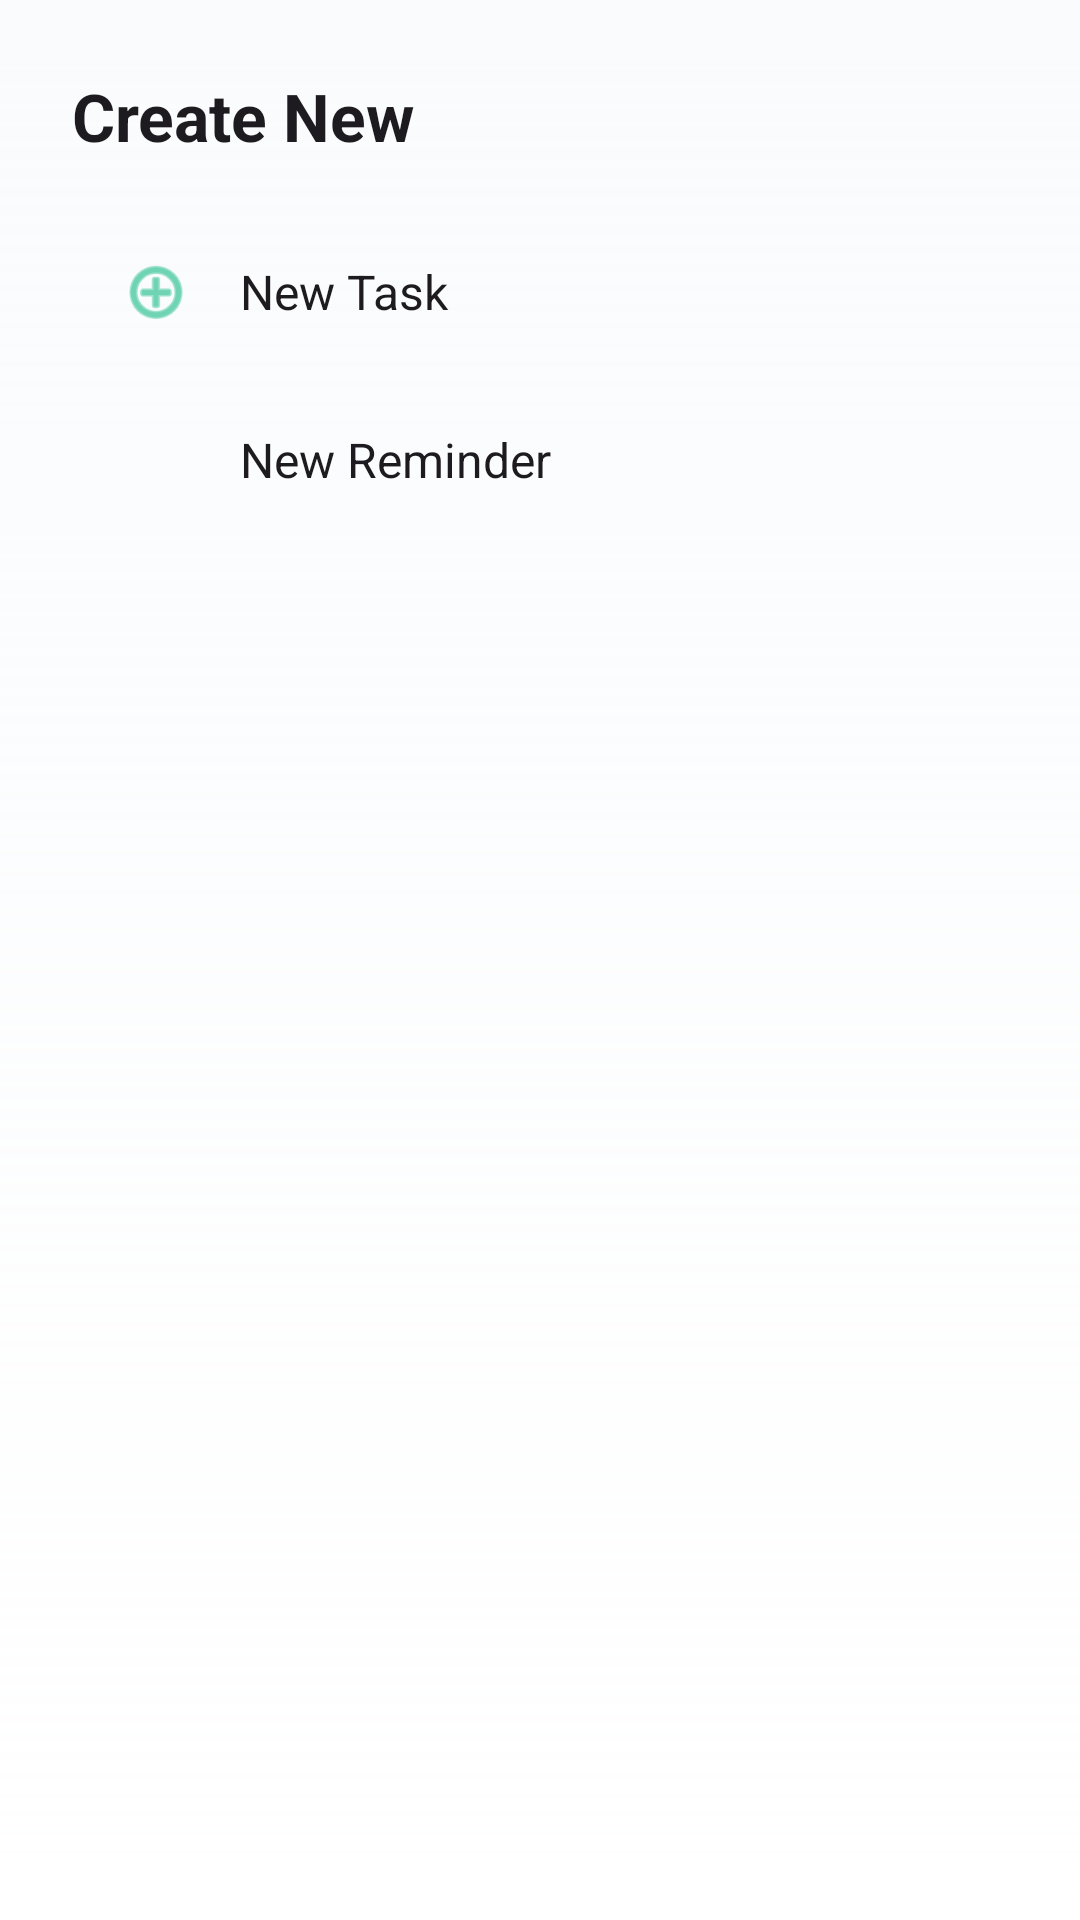

Named icons in this screenshot (1080×1920) and their centers, point (x, y):
add: point (156, 292)
